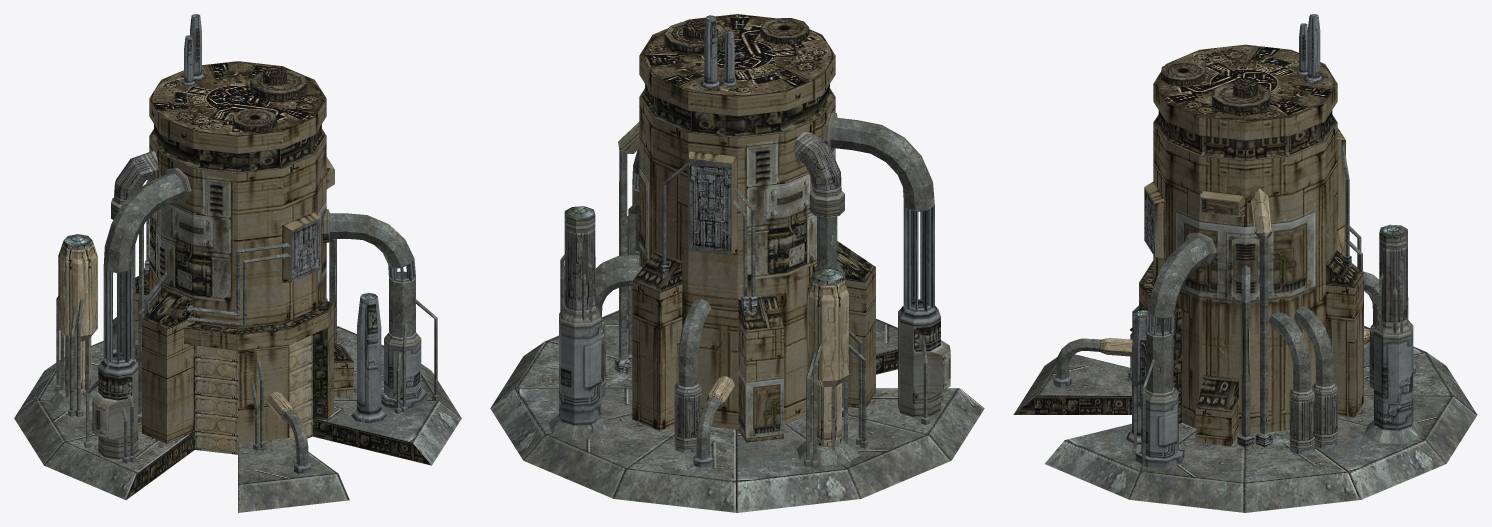
Rendered from eaw_droidworks.glb.
The picture shows the model from 3 angles, left to right: view 1: azimuth 30°, elevation 25°; view 2: azimuth 150°, elevation 25°; view 3: azimuth 270°, elevation 25°; orthographic projection. The views are drawn at different scales.
Parts seen in each view (by area): view 1: polymsh5_1, polymsh5_2, polymsh5_0; view 2: polymsh5_1; view 3: polymsh5_1.
Boxes of the visible parts, x1,y1,x2,y2 form: polymsh5_1: (14, 14, 461, 512); polymsh5_2: (195, 345, 237, 454); polymsh5_0: (289, 334, 312, 441); polymsh5_1: (490, 14, 984, 512); polymsh5_1: (1013, 14, 1477, 512).
Size of the model in its own units: 36.03 by 33.78 by 36.03.
3 materials, 3 textured.
